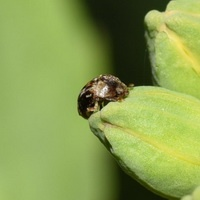insect: (78, 74, 128, 118)
